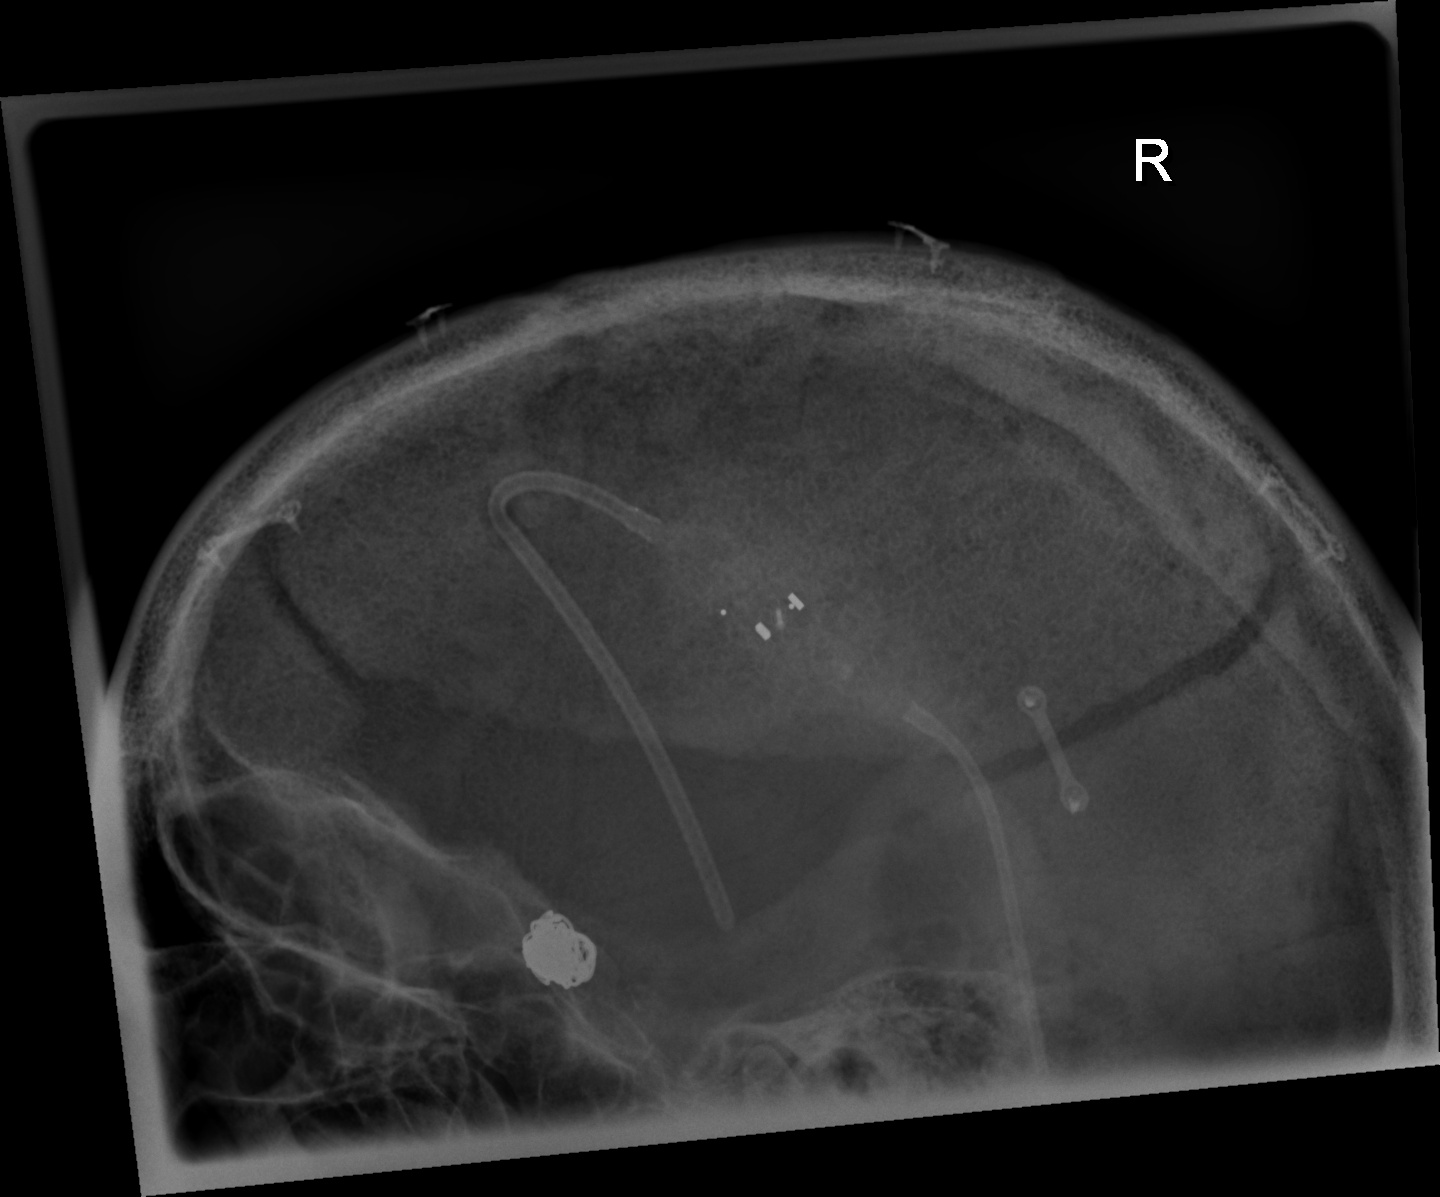Codman Certas: (710, 568, 814, 667)
